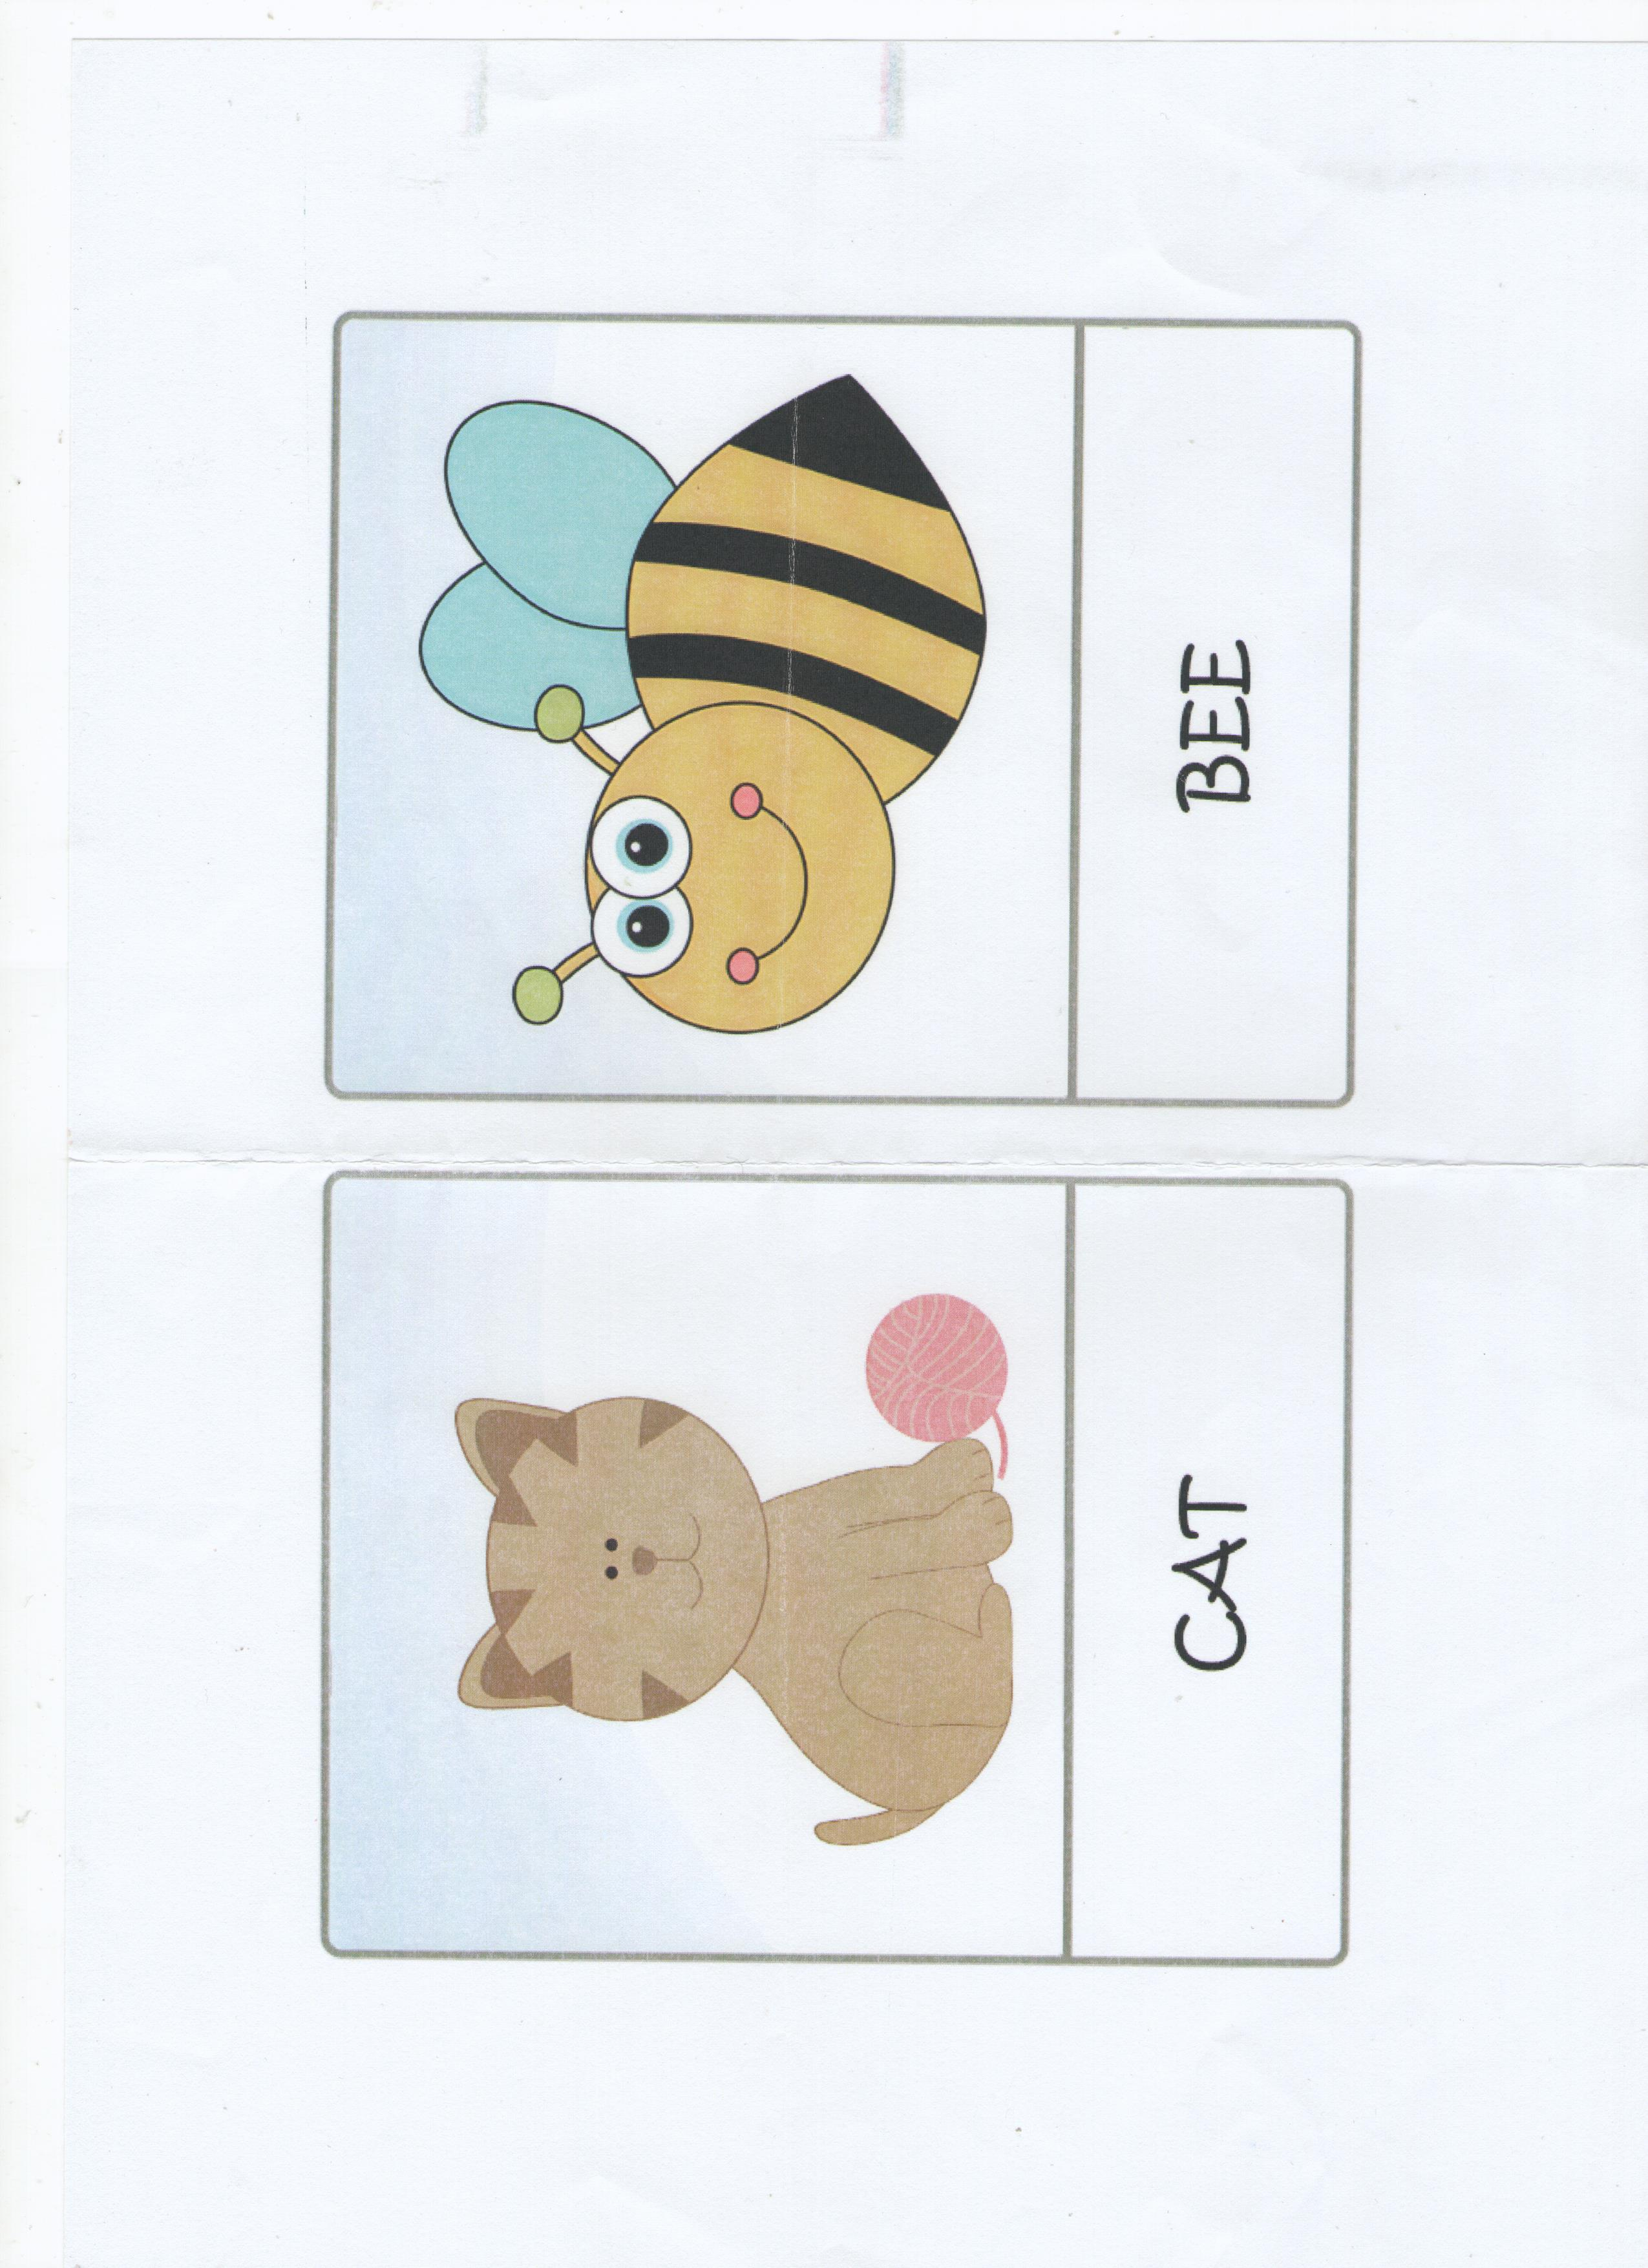ape: (341, 318, 1360, 1110)
gatto: (343, 1196, 1341, 1926)
